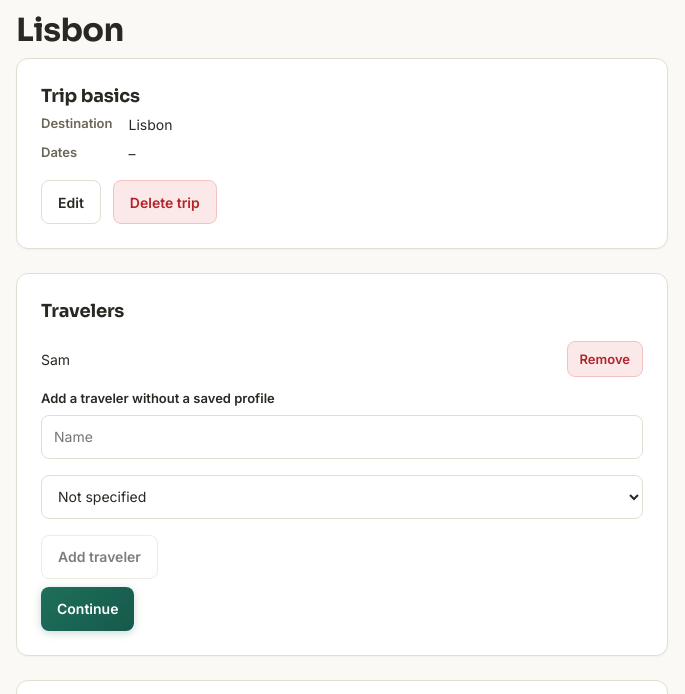
Test: TripWizardPage › removes an added traveler
The width and height of the screenshot is (685, 694).
expect the text "Sam" is shown: met, box x1=41 y1=348 x2=70 y2=370
Click the button "Remove": [605, 359] box x1=566 y1=341 x2=643 y2=377
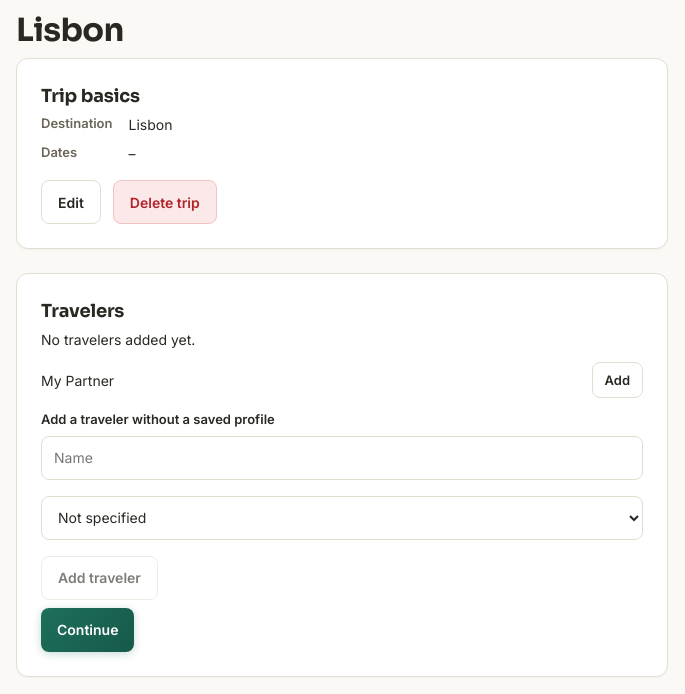
expect the text "No travelers added yet." is shown: met, box x1=41 y1=331 x2=195 y2=348
